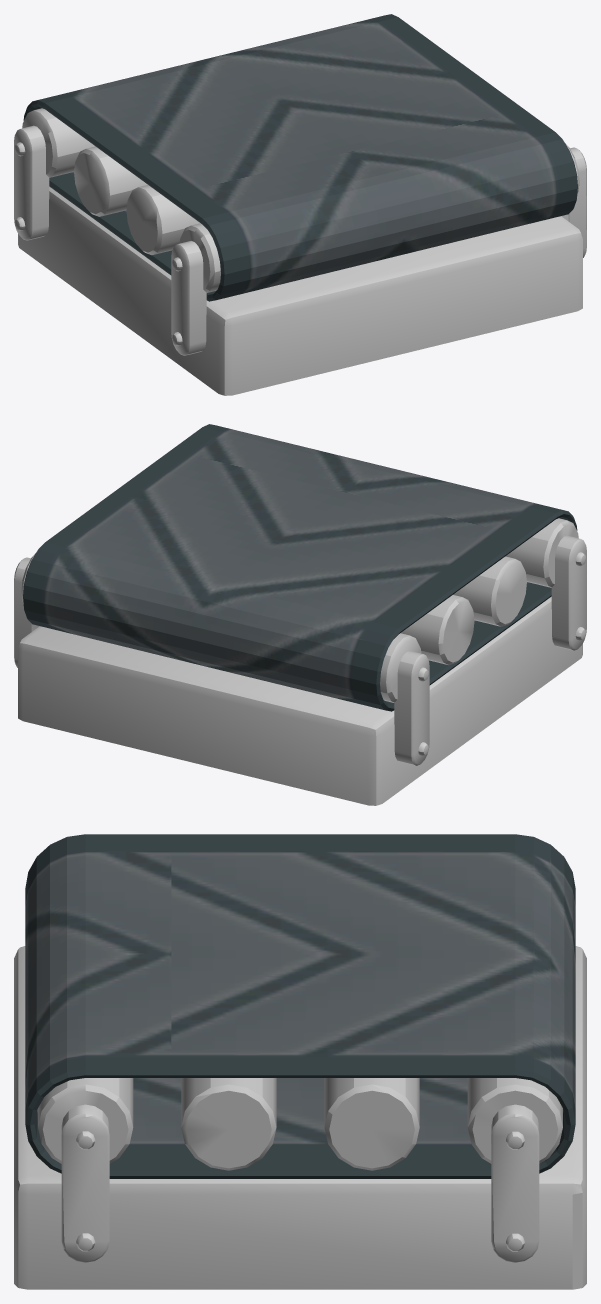
The model's file is m_sk_conveyor_belt_02.fbx.
3 views of the same model, one above another, from view 1: azimuth 30°, elevation 25°; view 2: azimuth 150°, elevation 25°; view 3: azimuth 270°, elevation 25° (orthographic). The views are drawn at different scales.
Parts seen in each view (by area): view 1: m_sk_conveyor_belt_01_0, m_sk_conveyor_belt_01_1; view 2: m_sk_conveyor_belt_01_0, m_sk_conveyor_belt_01_1; view 3: m_sk_conveyor_belt_01_0, m_sk_conveyor_belt_01_1.
Boxes of the visible parts, x1,y1,x2,y2 form: m_sk_conveyor_belt_01_0: (23, 14, 577, 301); m_sk_conveyor_belt_01_1: (14, 108, 586, 395); m_sk_conveyor_belt_01_0: (23, 424, 577, 711); m_sk_conveyor_belt_01_1: (14, 518, 586, 805); m_sk_conveyor_belt_01_0: (25, 834, 575, 1178); m_sk_conveyor_belt_01_1: (14, 946, 586, 1289).
Size of the model in its own units: 1.36 by 1.2 by 0.501.
